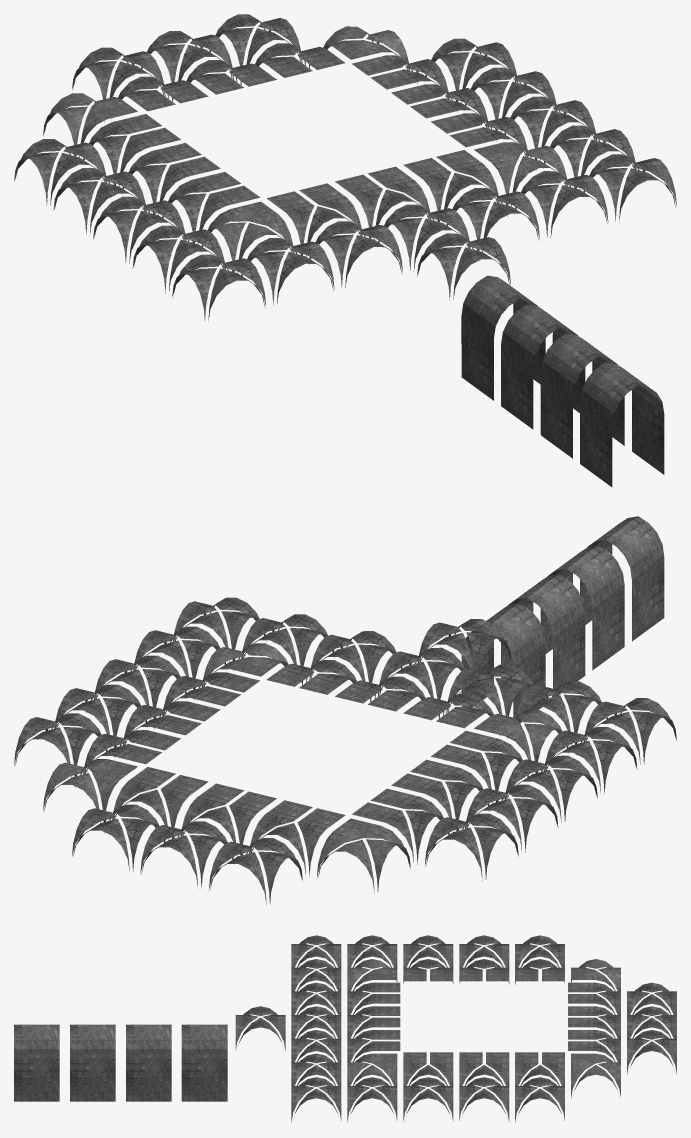
The model's file is Ceiling_MDL.fbx.
3 renders of one model, top to bottom at view 1: azimuth 30°, elevation 25°; view 2: azimuth 150°, elevation 25°; view 3: azimuth 270°, elevation 25°, orthographic. The views are drawn at different scales.
Parts seen in each view (by area): view 1: TunnelBigDoorway.008; view 2: TunnelBigDoorway.008; view 3: TunnelBigDoorway.008.
Boxes of the visible parts, <box> form: TunnelBigDoorway.008: <box>14,14,676,487</box>; TunnelBigDoorway.008: <box>14,516,676,904</box>; TunnelBigDoorway.008: <box>14,935,676,1122</box>.
Size of the model in its own units: 3447 by 750 by 5928.
